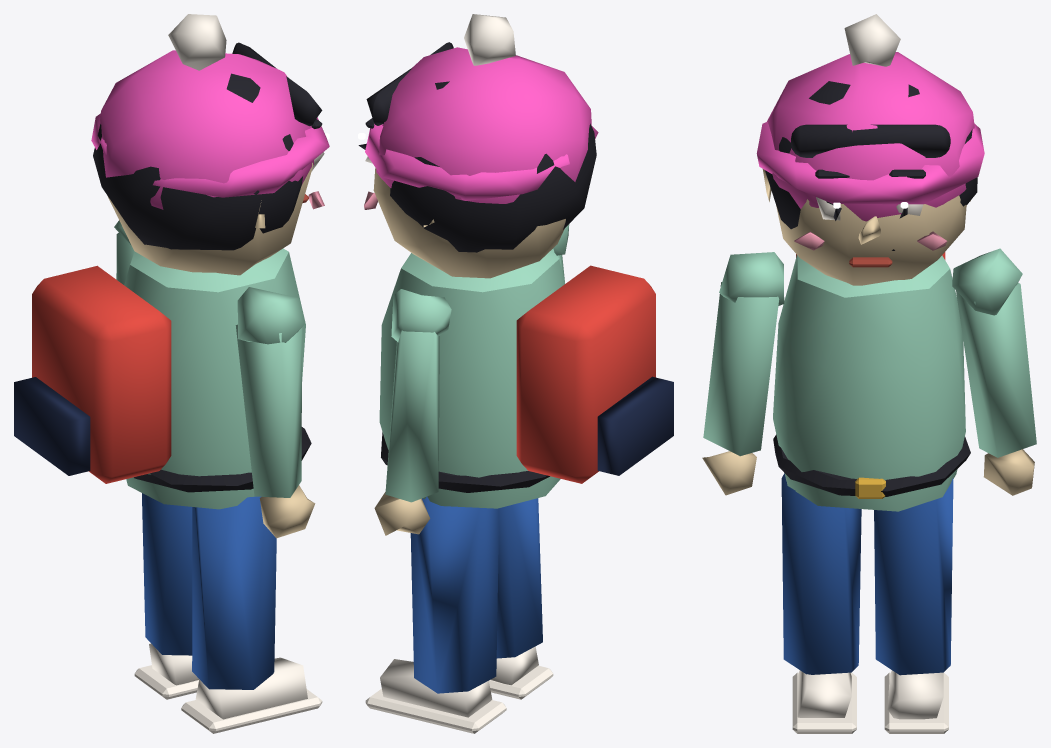
File: ped_student.glb
3 views of the same model, side by side, from view 1: azimuth 30°, elevation 25°; view 2: azimuth 150°, elevation 25°; view 3: azimuth 270°, elevation 25° (orthographic).
Visible parts, largest first — view 1: ped_student; view 2: ped_student; view 3: ped_student.
Part boxes in pixels (<box>): ped_student: <box>14,14,329,733</box>; ped_student: <box>358,14,673,733</box>; ped_student: <box>702,14,1036,733</box>.
Size of the model in its own units: 0.6139 by 1.48 by 0.6656.
1 material, 1 textured.
